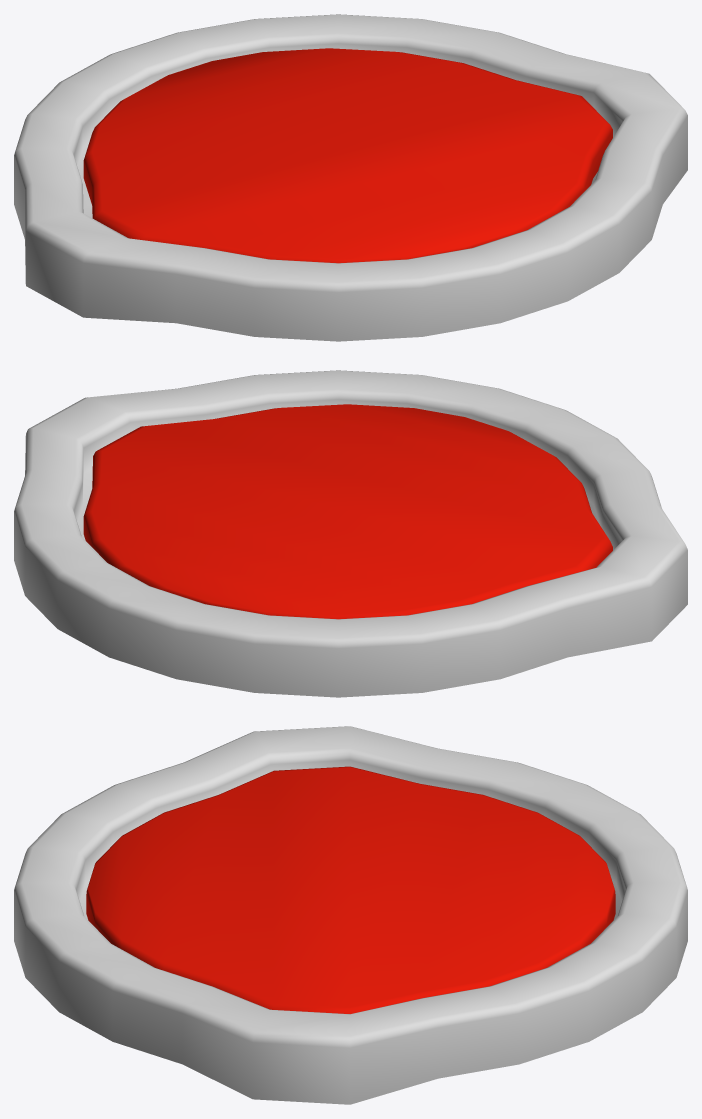
Rendered from Ginger_biscuit_02.fbx.
3 views of the same model, one above another, from view 1: azimuth 30°, elevation 25°; view 2: azimuth 150°, elevation 25°; view 3: azimuth 270°, elevation 25° (orthographic). The views are drawn at different scales.
Parts seen in each view (by area): view 1: Ginger_biscuit_02; view 2: Ginger_biscuit_02; view 3: Ginger_biscuit_02.
Part boxes in pixels (x1=…): Ginger_biscuit_02: x1=14, y1=14, x2=687, y2=341; Ginger_biscuit_02: x1=14, y1=370, x2=687, y2=697; Ginger_biscuit_02: x1=14, y1=726, x2=687, y2=1104.
Size of the model in its own units: 32.09 by 3.06 by 28.8.
